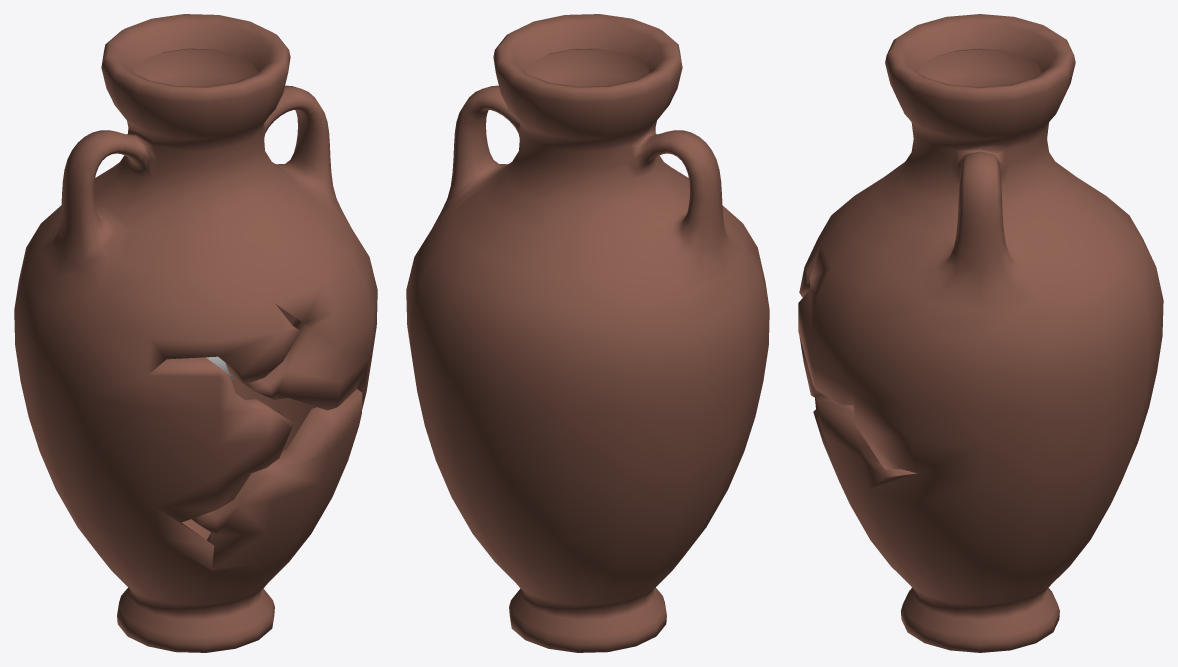
File: PoteGrego.fbx
3 renders of one model, left to right at view 1: azimuth 30°, elevation 25°; view 2: azimuth 150°, elevation 25°; view 3: azimuth 270°, elevation 25°, orthographic.
Parts seen in each view (by area): view 1: Pote; view 2: Pote; view 3: Pote.
Part boxes in pixels (bbox=[...]): Pote: bbox=[14, 14, 377, 652]; Pote: bbox=[406, 14, 769, 652]; Pote: bbox=[798, 14, 1163, 652].
Size of the model in its own units: 47.99 by 82.54 by 47.85.
